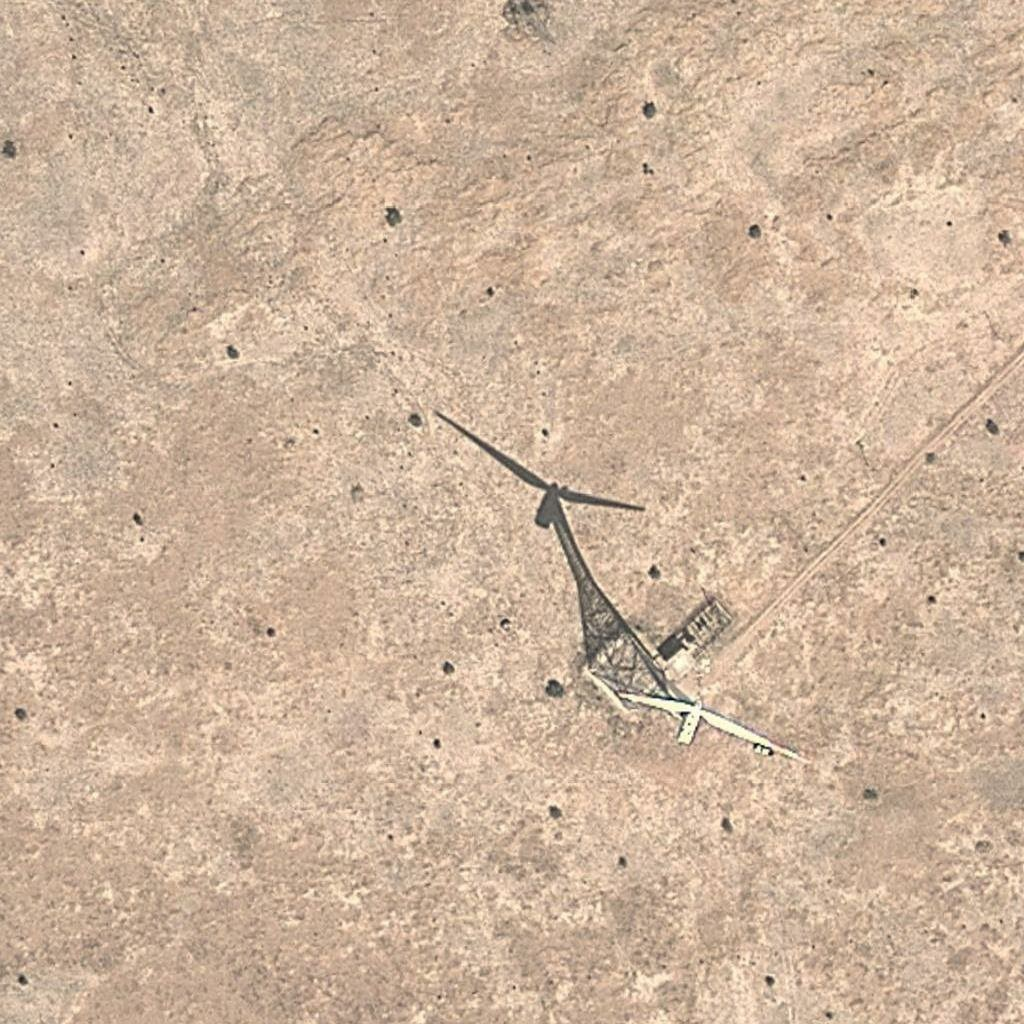Windmill: (423, 397, 664, 679)
